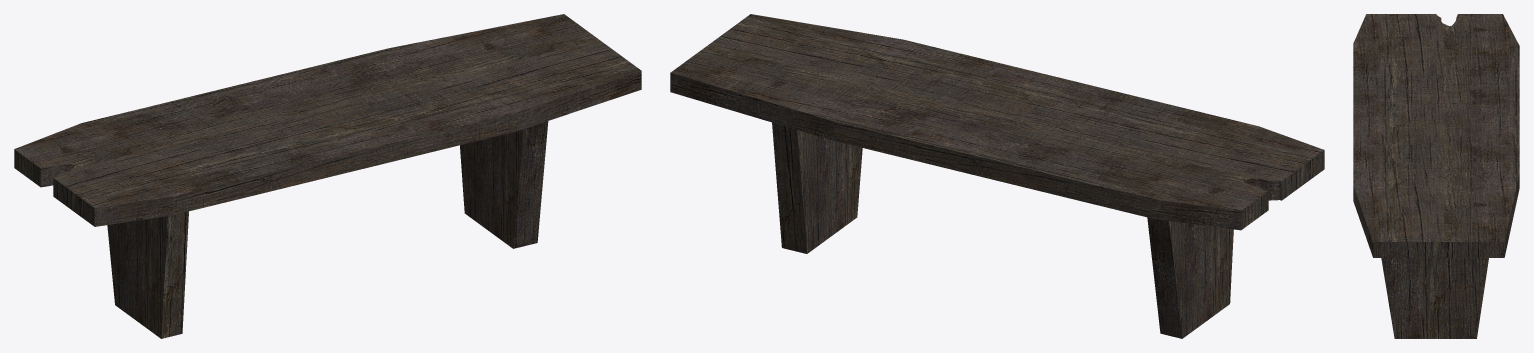
The model's file is Benches.fbx.
The picture shows the model from 3 angles, left to right: view 1: azimuth 30°, elevation 25°; view 2: azimuth 150°, elevation 25°; view 3: azimuth 270°, elevation 25°; orthographic projection. The views are drawn at different scales.
Parts seen in each view (by area): view 1: Model; view 2: Model; view 3: Model.
Part boxes in pixels (x1,y1,x2,y2): Model: (14,14,641,338); Model: (670,14,1324,338); Model: (1353,14,1519,338).
Bounding box in the file's own units: 125 × 34.5 × 38.5.
